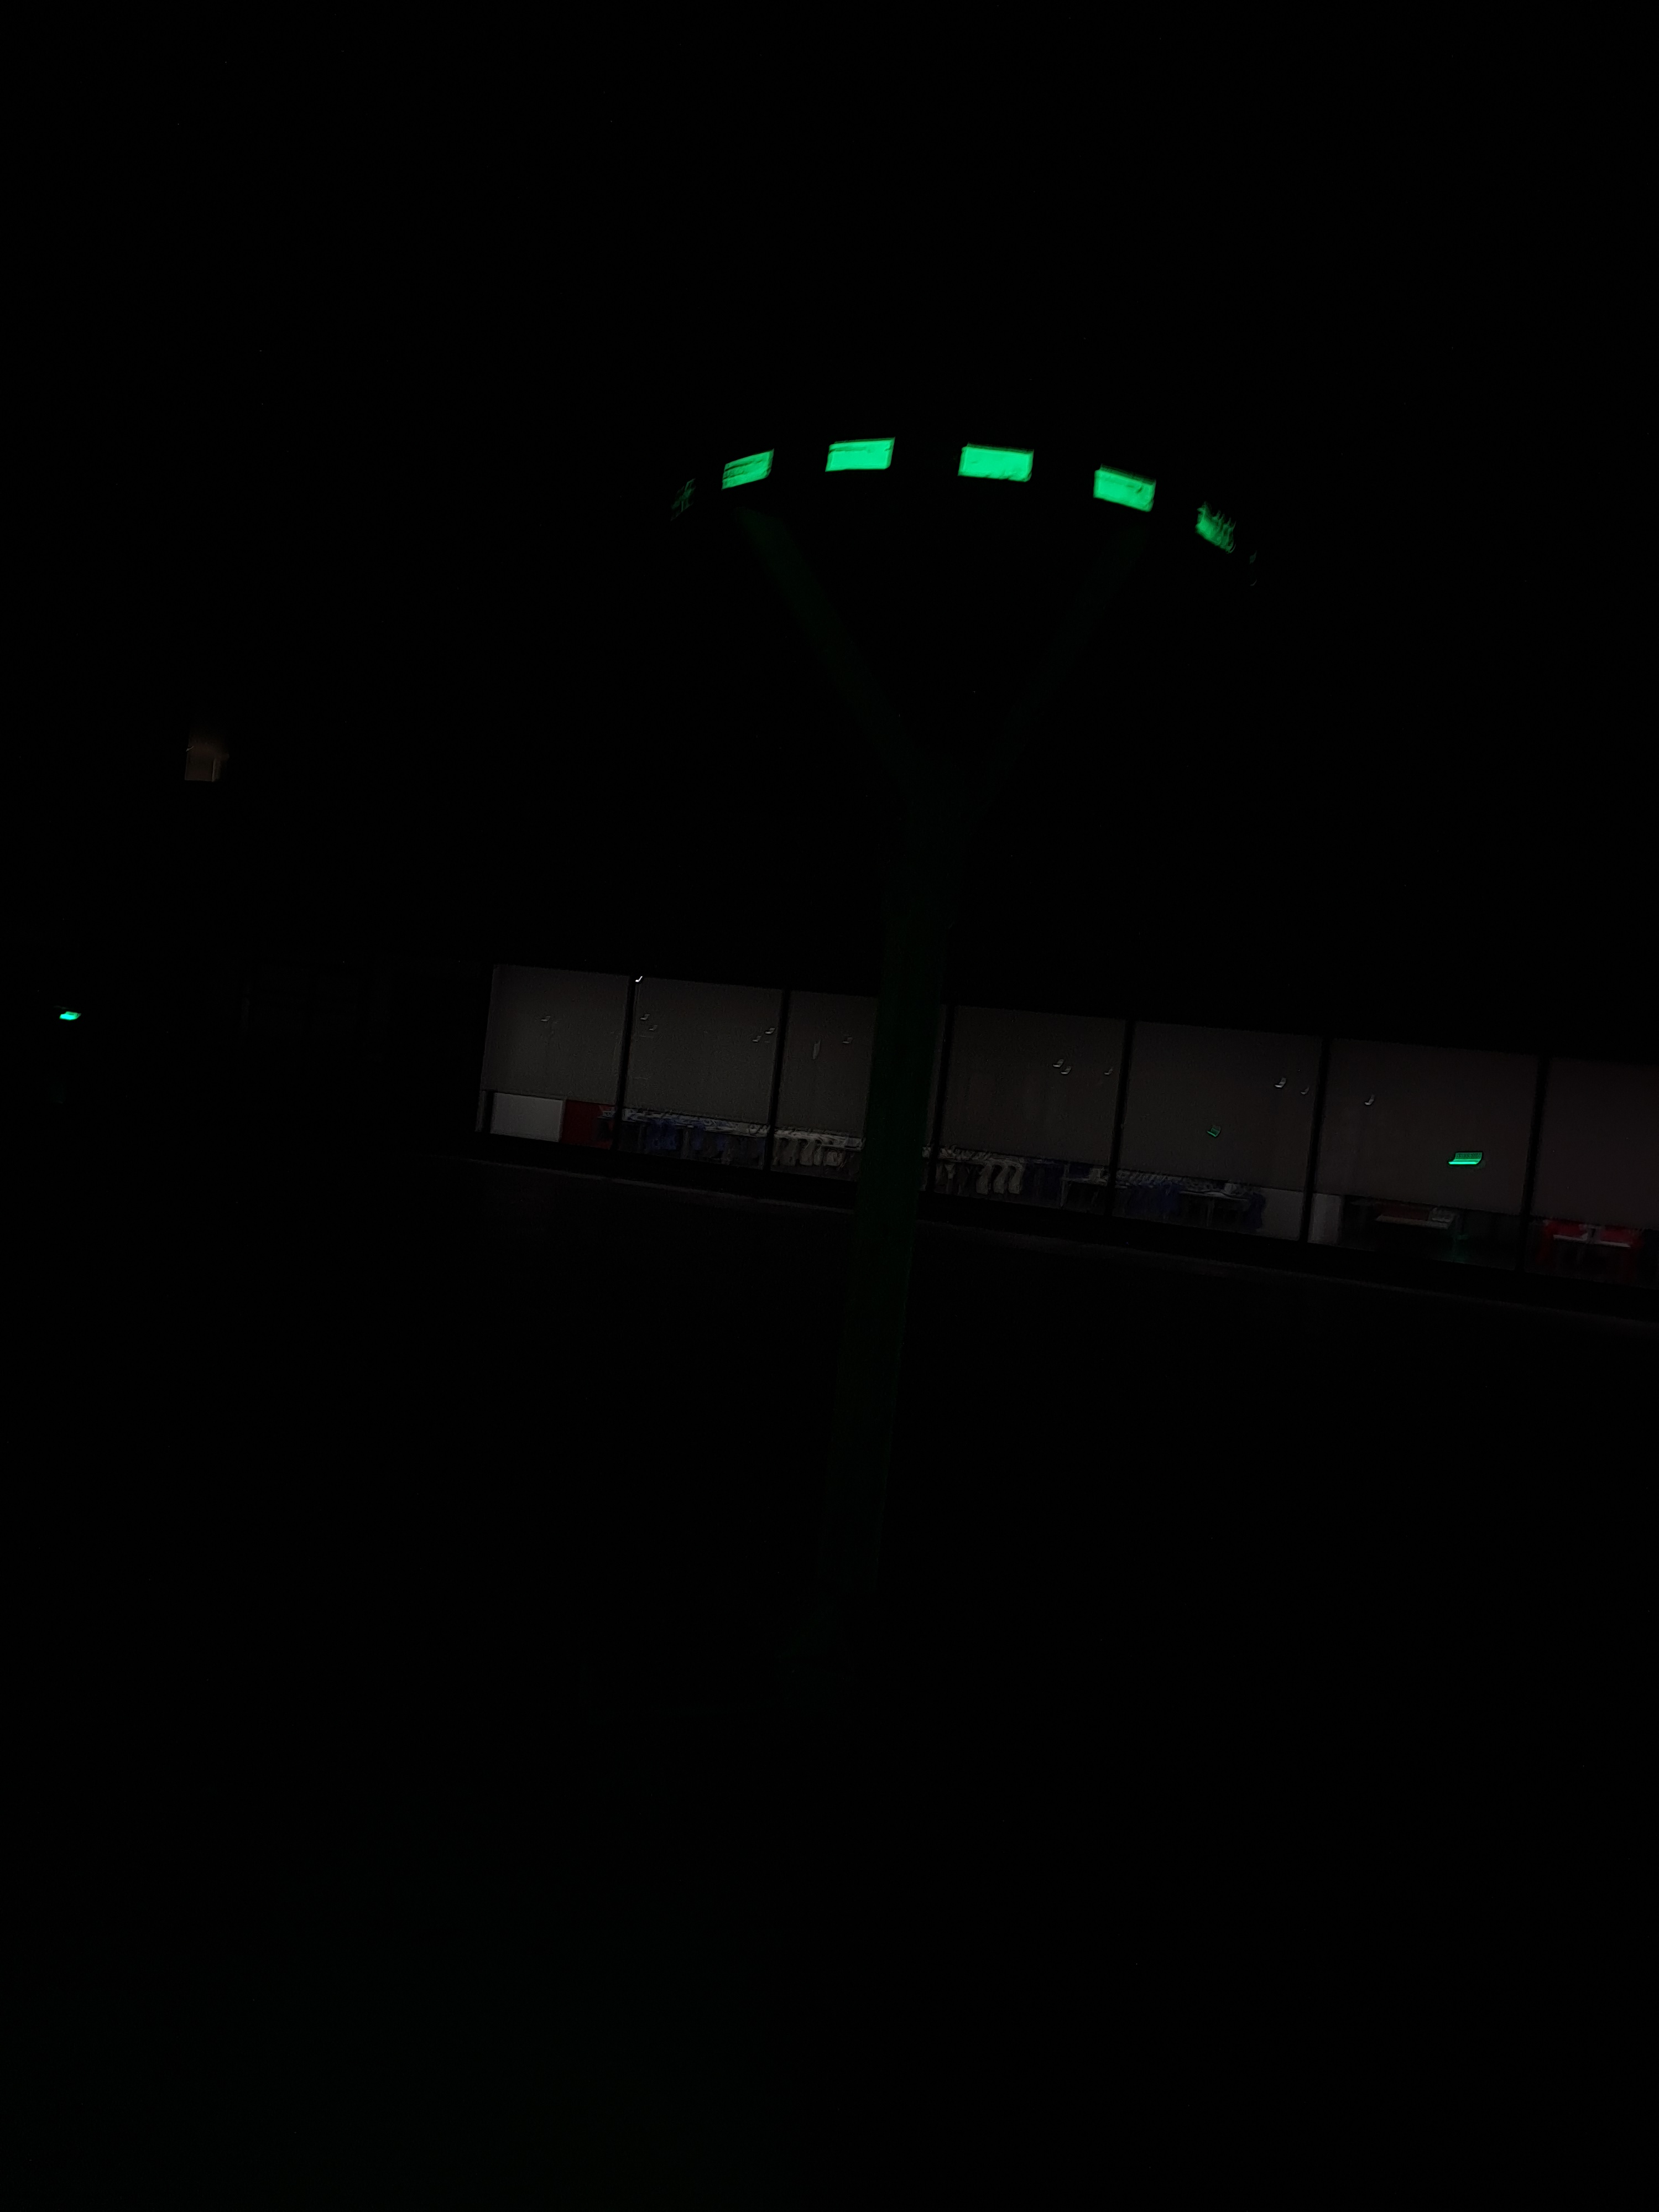hoop: (714, 418, 1244, 559)
